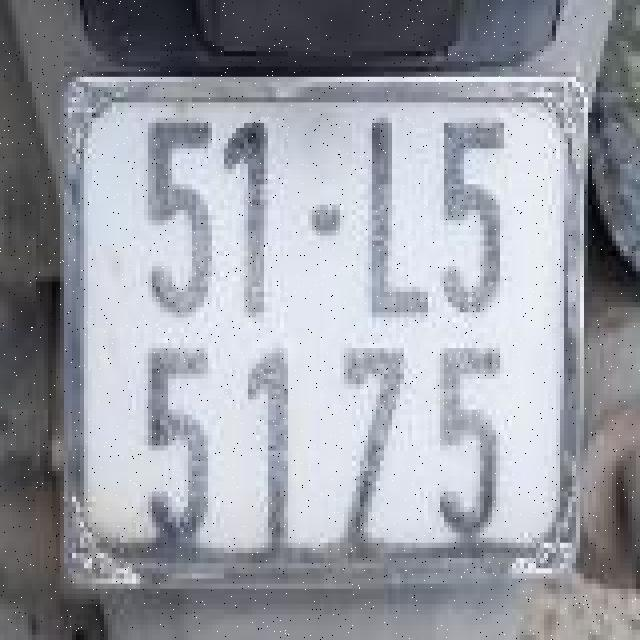1: (220, 105, 284, 310), (242, 333, 298, 558)
5: (124, 325, 224, 571), (426, 102, 518, 322), (130, 108, 214, 318), (428, 346, 516, 545)
7: (322, 330, 414, 550)
L: (350, 100, 434, 335)
